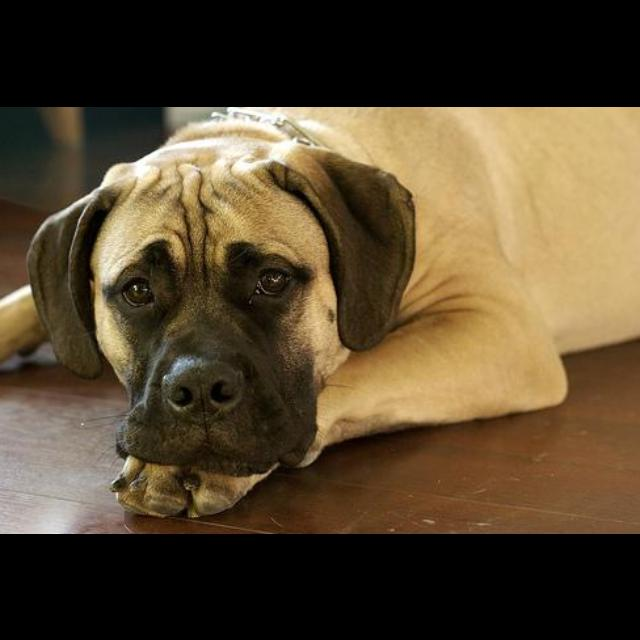bullmastiff: (1, 108, 640, 521)
